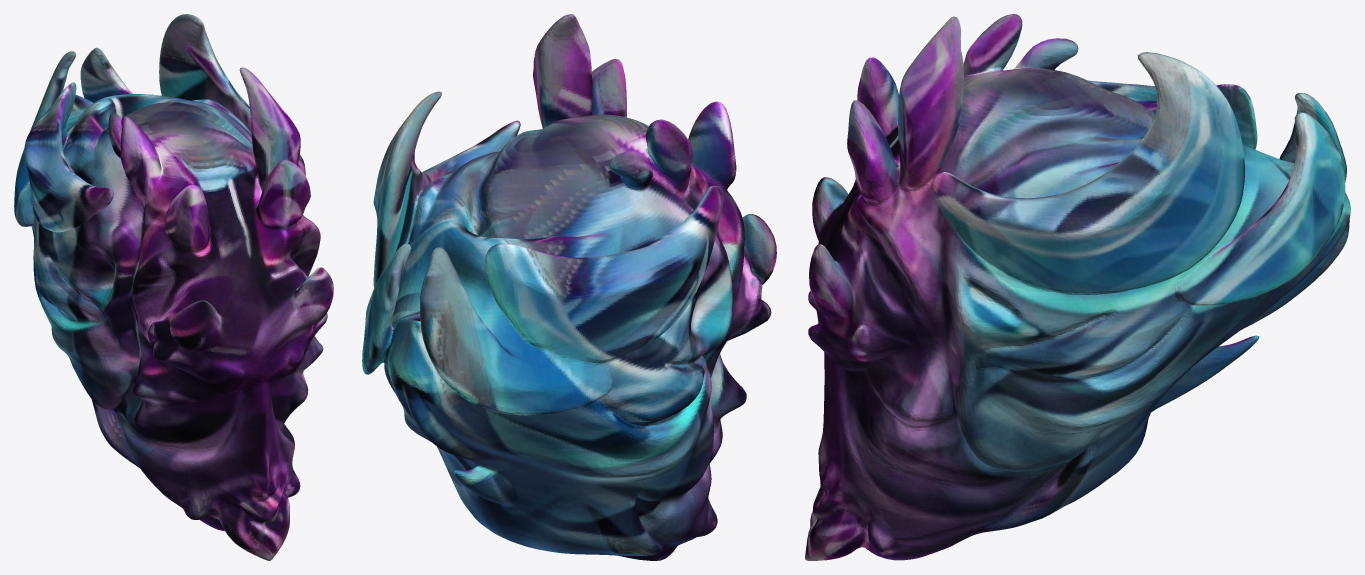
The model's file is the_mask_of_transformation.glb.
3 renders of one model, left to right at view 1: azimuth 30°, elevation 25°; view 2: azimuth 150°, elevation 25°; view 3: azimuth 270°, elevation 25°, orthographic. The views are drawn at different scales.
Size of the model in its own units: 1.12 by 1.99 by 1.75.
1 material, 1 textured.
